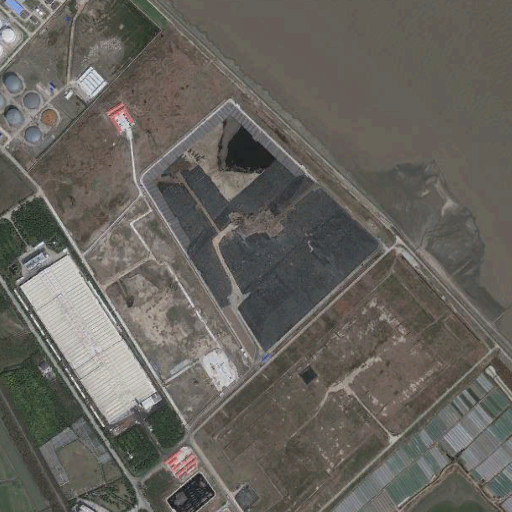lf: (134, 100, 381, 358)
